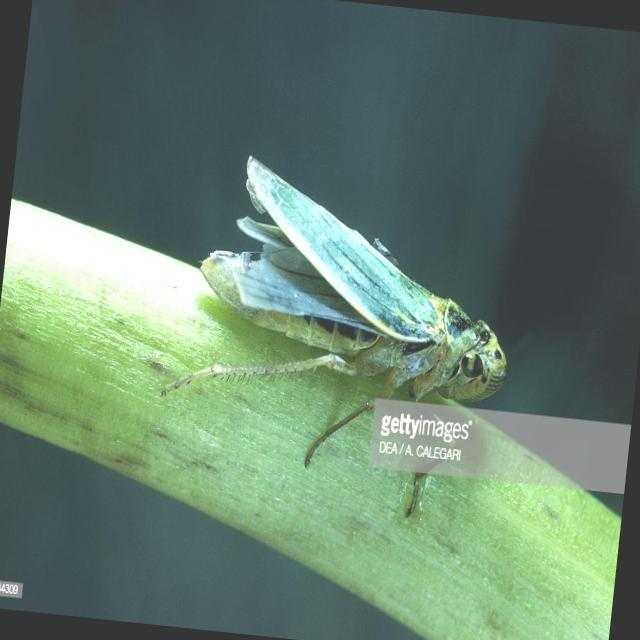green leaf hopper: (161, 156, 506, 402), (377, 405, 489, 493)
